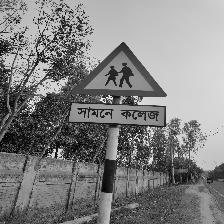College-in-front: (66, 39, 204, 147)
